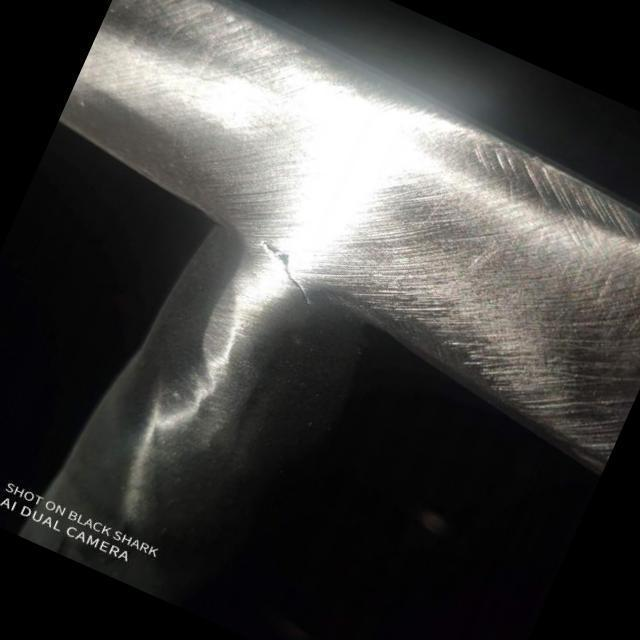defect: (257, 234, 312, 307)
